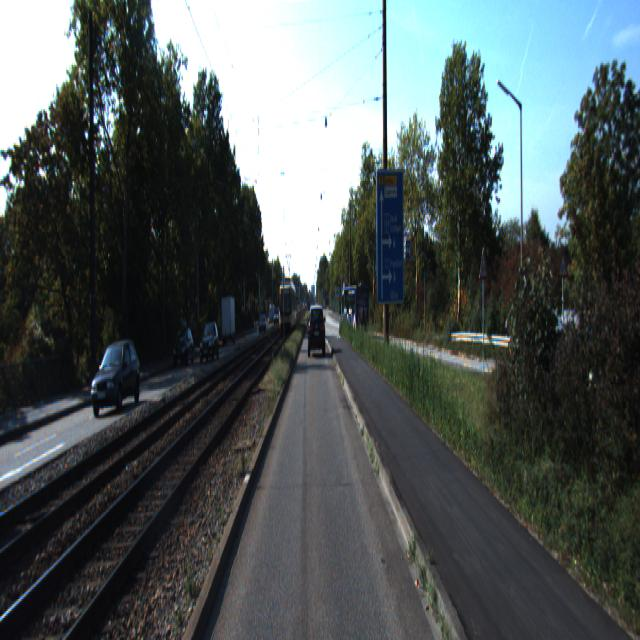Car: (90, 334, 142, 417), (341, 284, 370, 337), (198, 318, 220, 363), (172, 325, 195, 366), (308, 306, 324, 356), (220, 296, 236, 346)
